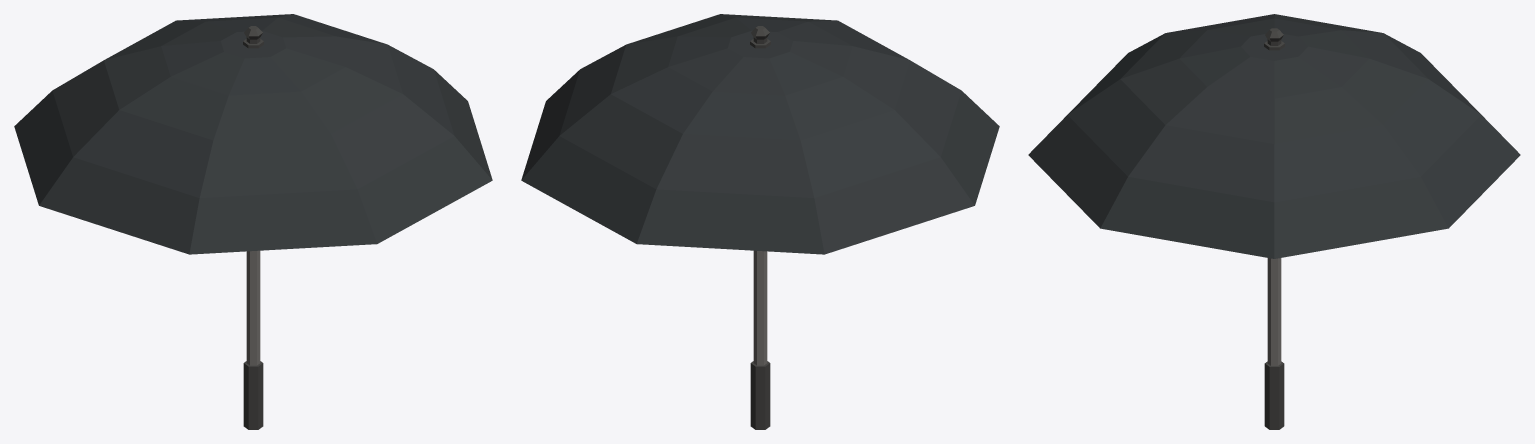
The model's file is SM_Props_City_Beach_Umbrella_01.fbx.
3 views of the same model, side by side, from view 1: azimuth 30°, elevation 25°; view 2: azimuth 150°, elevation 25°; view 3: azimuth 270°, elevation 25° (orthographic).
Parts seen in each view (by area): view 1: SM_Props_City_Beach_Umbrella_01; view 2: SM_Props_City_Beach_Umbrella_01; view 3: SM_Props_City_Beach_Umbrella_01.
Boxes of the visible parts, x1,y1,x2,y2 form: SM_Props_City_Beach_Umbrella_01: [14, 14, 492, 429]; SM_Props_City_Beach_Umbrella_01: [521, 14, 999, 429]; SM_Props_City_Beach_Umbrella_01: [1028, 14, 1520, 429].
Size of the model in its own units: 213 by 189 by 213.
